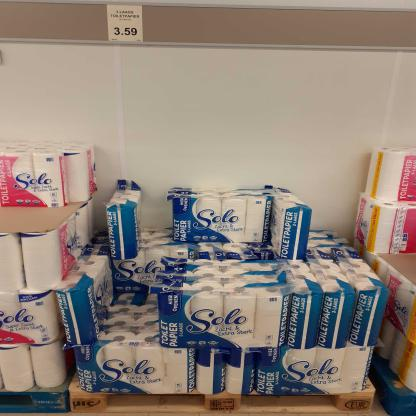prtg: (108, 6, 144, 43)
